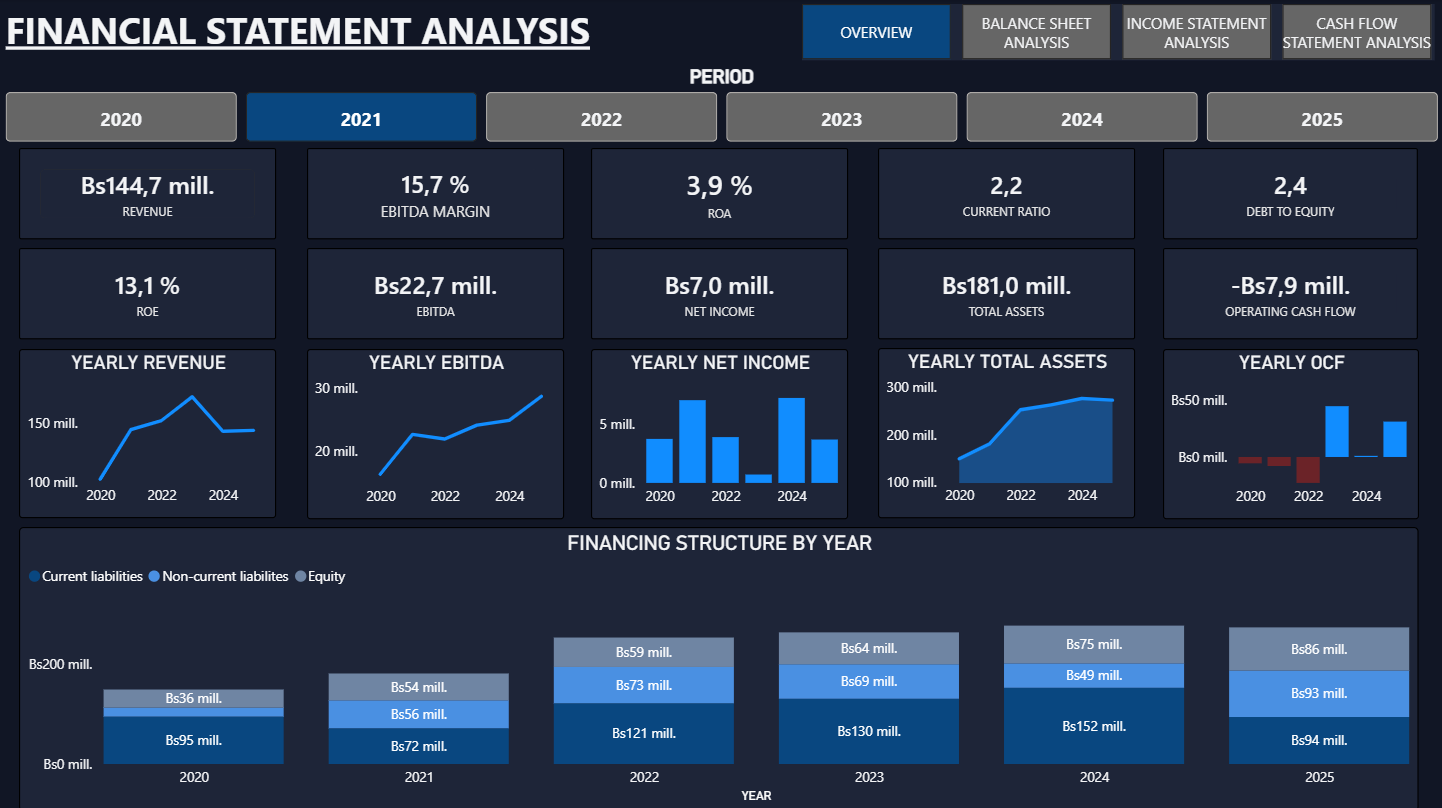

This screenshot's page, from the dashboard's own definition file:
{"tool":"powerbi","page":{"name":"OVERVIEW","canvas":[1280,720],"ordinal":0},"visuals":[{"type":"cardVisual","fields":{"Data":["MEDIDAS.IngresosOP"]},"box":[17.3,132.3,228.2,81.5],"z":0},{"type":"cardVisual","fields":{"Data":["MEDIDAS.EBITDA"]},"box":[272.3,220.5,228.2,81.5],"z":1000},{"type":"cardVisual","fields":{"Data":["MEDIDAS.Resultado Neto"]},"box":[524.5,220.5,228.2,81.5],"z":2000},{"type":"cardVisual","fields":{"Data":["MEDIDAS.Total Activo"]},"box":[778.5,220.5,228.2,81.5],"z":3000},{"type":"cardVisual","fields":{"Data":["DimCategoria.Operating cash flow"]},"box":[1031.7,220.5,226.3,81.5],"z":4000},{"type":"lineChart","title":"YEARLY REVENUE","fields":{"Category":["DimFecha.Año"],"Y":["MEDIDAS.IngresosOP"]},"box":[17.3,310.7,227.9,149.9],"z":5000},{"type":"lineChart","title":"YEARLY EBITDA","fields":{"Category":["DimFecha.Año"],"Y":["MEDIDAS.EBITDA"]},"box":[272.3,310.7,227.9,150.7],"z":6000},{"type":"clusteredColumnChart","title":"YEARLY NET INCOME","fields":{"Category":["DimFecha.Año"],"Y":["MEDIDAS.Resultado Neto"]},"box":[524.5,310.7,227.9,150.7],"z":7000},{"type":"areaChart","title":"YEARLY TOTAL ASSETS","fields":{"Category":["DimFecha.Año"],"Y":["MEDIDAS.Total Activo"]},"box":[778.5,309.7,227.9,150.7],"z":8000},{"type":"clusteredColumnChart","title":"YEARLY OCF","fields":{"Category":["DimFecha.Año"],"Y":["DimCategoria.Operating cash flow"]},"box":[1031.7,310.7,227,150.7],"z":9000},{"type":"columnChart","title":"FINANCING STRUCTURE BY YEAR","fields":{"Category":["DimFecha.Año"],"Y":["MEDIDAS.Current liabilities","MEDIDAS.Non-current liabilites","MEDIDAS.Equity"]},"box":[17.3,467.9,1240.7,252.2],"z":10000},{"type":"textbox","box":[0,0,532,58.5],"z":11000},{"type":"cardVisual","fields":{"Data":["MEDIDAS.Razón corriente"]},"box":[778.5,132.3,228.2,81.5],"z":12000},{"type":"cardVisual","fields":{"Data":["MEDIDAS.ROE"]},"box":[17.3,220.5,228.2,81.5],"z":13000},{"type":"cardVisual","fields":{"Data":["MEDIDAS.ROA"]},"box":[524.5,132.3,228.2,81.5],"z":14000},{"type":"cardVisual","fields":{"Data":["MEDIDAS.Margen EBITDA"]},"box":[272.3,132.3,228.2,81.5],"z":15000},{"type":"cardVisual","fields":{"Data":["MEDIDAS.Apalancamiento"]},"box":[1031.7,132.3,226.3,81.5],"z":16000},{"type":"advancedSlicerVisual","title":"PERIOD","fields":{"Values":["DimFecha.Año"]},"box":[0,58.8,1280,73.5],"z":17000},{"type":"pageNavigator","box":[711.4,4.8,560.9,49.9],"z":18000}]}

Visuals, with their boxes in screenshot pixels (x1, y1, x2, y2), scaled from the page's 1280x720 canvas onto the 1442x808 screenshot:
cardVisual - MEDIDAS.IngresosOP: 19:148:277:240
cardVisual - MEDIDAS.EBITDA: 307:247:564:339
cardVisual - MEDIDAS.Resultado Neto: 591:247:848:339
cardVisual - MEDIDAS.Total Activo: 877:247:1134:339
cardVisual - DimCategoria.Operating cash flow: 1162:247:1417:339
"YEARLY REVENUE" lineChart: 19:349:276:517
"YEARLY EBITDA" lineChart: 307:349:564:518
"YEARLY NET INCOME" clusteredColumnChart: 591:349:848:518
"YEARLY TOTAL ASSETS" areaChart: 877:348:1134:517
"YEARLY OCF" clusteredColumnChart: 1162:349:1418:518
"FINANCING STRUCTURE BY YEAR" columnChart: 19:525:1417:807
textbox: 0:0:599:66
cardVisual - MEDIDAS.Razón corriente: 877:148:1134:240
cardVisual - MEDIDAS.ROE: 19:247:277:339
cardVisual - MEDIDAS.ROA: 591:148:848:240
cardVisual - MEDIDAS.Margen EBITDA: 307:148:564:240
cardVisual - MEDIDAS.Apalancamiento: 1162:148:1417:240
"PERIOD" advancedSlicerVisual: 0:66:1441:148
pageNavigator: 801:5:1433:61
